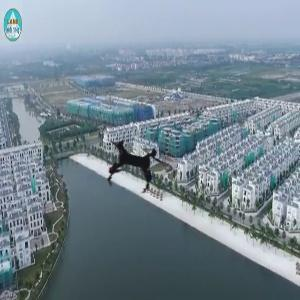drone: (83, 110, 192, 219)
